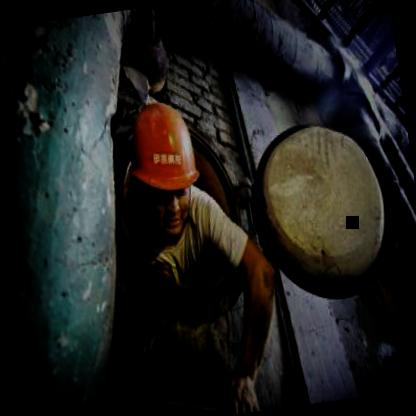helmet: (115, 88, 214, 246)
